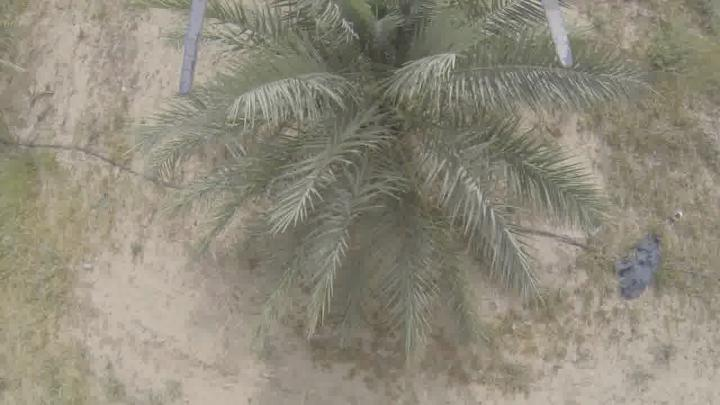Date-Palm-Crown: (236, 0, 556, 294)
